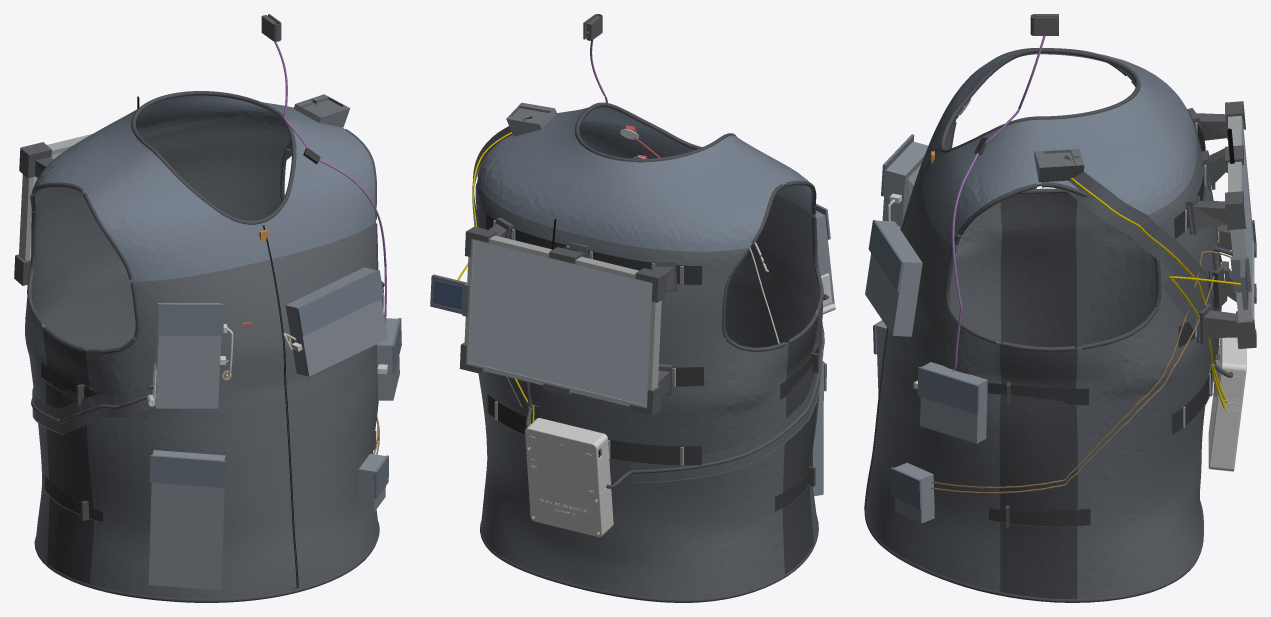
The model's file is assembly.mo.glb.
The picture shows the model from 3 angles, left to right: view 1: azimuth 30°, elevation 25°; view 2: azimuth 150°, elevation 25°; view 3: azimuth 270°, elevation 25°; orthographic projection. The views are drawn at different scales.
Parts seen in each view (by area): view 1: vest/vest_FRONT_R, vest/vest_FRONT_L, vest/vest_BACK_C, vest/vest_YOKE_FR, vest/vest_YOKE_FL, vest/vest_YOKE_B, vest/pocket_phone, vest/vest_SIDE_R, vest/pocket_C_board, vest/pocket_chest_pod, vest/vest_BACK_SR, vest/tunnel_J6_back_to_chest (+20 smaller); view 2: vest/vest_BACK_C, vest/vest_YOKE_B, panel_glass, vest/vest_BACK_SR, vest/vest_FRONT_R, back_pod_lid, vest/vest_SIDE_R, panel, vest/tunnel_J6_back_to_chest, vest/vest_YOKE_FL, vest/webbing_row_C, back_pod_base (+20 smaller); view 3: vest/vest_FRONT_L, vest/vest_BACK_SL, vest/vest_SIDE_L, vest/vest_YOKE_B, vest/vest_SIDE_R, vest/vest_BACK_C, vest/vest_BACK_SR, vest/vest_YOKE_FL, vest/vest_FRONT_R, vest/tunnel_ref2, vest/pocket_C_board, back_pod_base (+32 smaller).
Part boxes in pixels (<box>): vest/vest_FRONT_R: <box>86,260,295,599</box>; vest/vest_FRONT_L: <box>268,222,383,589</box>; vest/vest_BACK_C: <box>36,121,268,349</box>; vest/vest_YOKE_FR: <box>84,147,268,281</box>; vest/vest_YOKE_FL: <box>260,116,375,259</box>; vest/vest_YOKE_B: <box>32,95,343,192</box>; vest/pocket_phone: <box>148,450,225,590</box>; vest/vest_SIDE_R: <box>43,327,93,584</box>; vest/pocket_C_board: <box>285,267,387,376</box>; vest/pocket_chest_pod: <box>154,303,221,408</box>; vest/vest_BACK_SR: <box>25,189,49,562</box>; vest/tunnel_J6_back_to_chest: <box>32,381,154,434</box>; vest/vest_BACK_C: <box>483,199,709,599</box>; vest/vest_YOKE_B: <box>477,109,783,251</box>; panel_glass: <box>468,240,651,405</box>; vest/vest_BACK_SR: <box>703,247,788,598</box>; vest/vest_FRONT_R: <box>725,195,822,542</box>; back_pod_lid: <box>525,427,606,537</box>; vest/vest_SIDE_R: <box>782,313,817,574</box>; panel: <box>464,218,661,407</box>; vest/tunnel_J6_back_to_chest: <box>630,322,823,483</box>; vest/vest_YOKE_FL: <box>554,107,694,158</box>; vest/webbing_row_C: <box>487,394,701,465</box>; back_pod_base: <box>527,418,613,535</box>; vest/vest_FRONT_L: <box>865,181,1001,591</box>; vest/vest_BACK_SL: <box>1076,206,1173,599</box>; vest/vest_SIDE_L: <box>999,342,1077,599</box>; vest/vest_YOKE_B: <box>1039,50,1196,215</box>; vest/vest_SIDE_R: <box>1000,193,1077,347</box>; vest/vest_BACK_C: <box>1159,127,1217,582</box>; vest/vest_BACK_SR: <box>1076,78,1156,347</box>; vest/vest_YOKE_FL: <box>922,119,1038,246</box>; vest/vest_FRONT_R: <box>866,121,1001,507</box>; vest/tunnel_ref2: <box>1064,155,1214,310</box>; vest/pocket_C_board: <box>865,220,922,336</box>; back_pod_base: <box>1208,337,1245,471</box>.
Bounding box in the file's own units: 0.4313 × 0.6714 × 0.4372.
